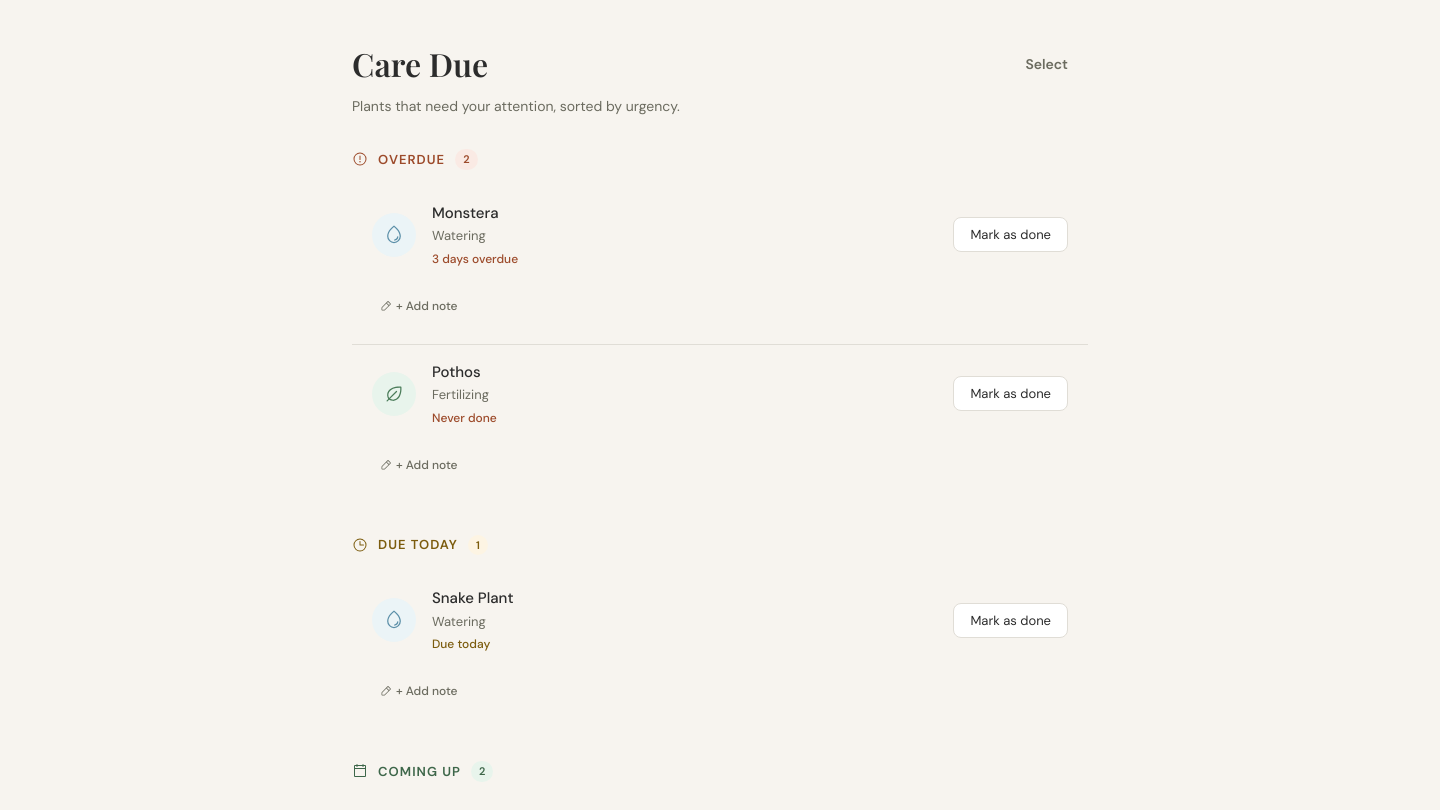
Test: CareDuePage › Batch mark-done (T-110) › selects and deselects all items via Select all checkbox
The image size is (1440, 810).
Click the button "Select" at (1047, 64), box [1005, 47, 1088, 81]
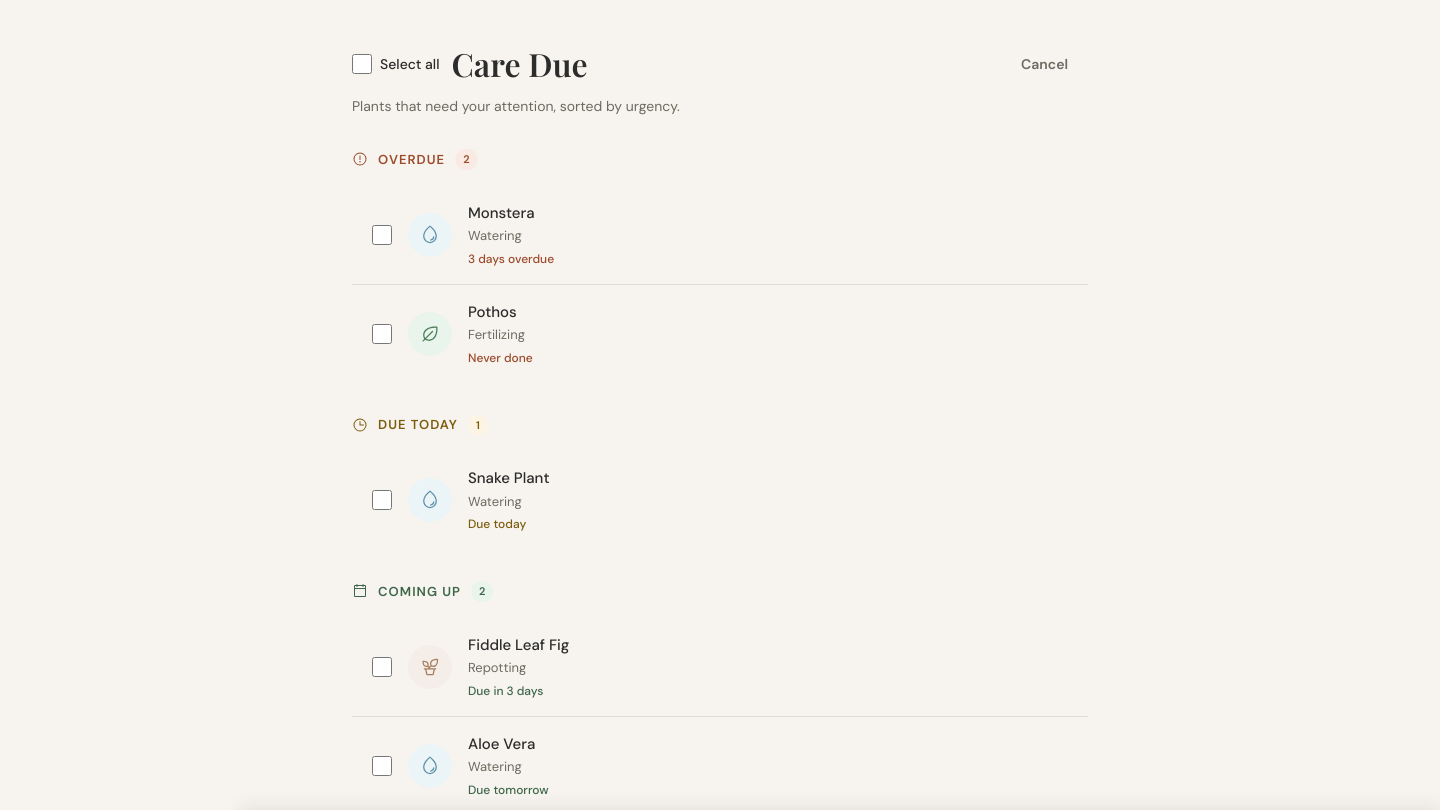
Click the checkbox named "Select all care items" at (362, 64), box [352, 54, 372, 74]
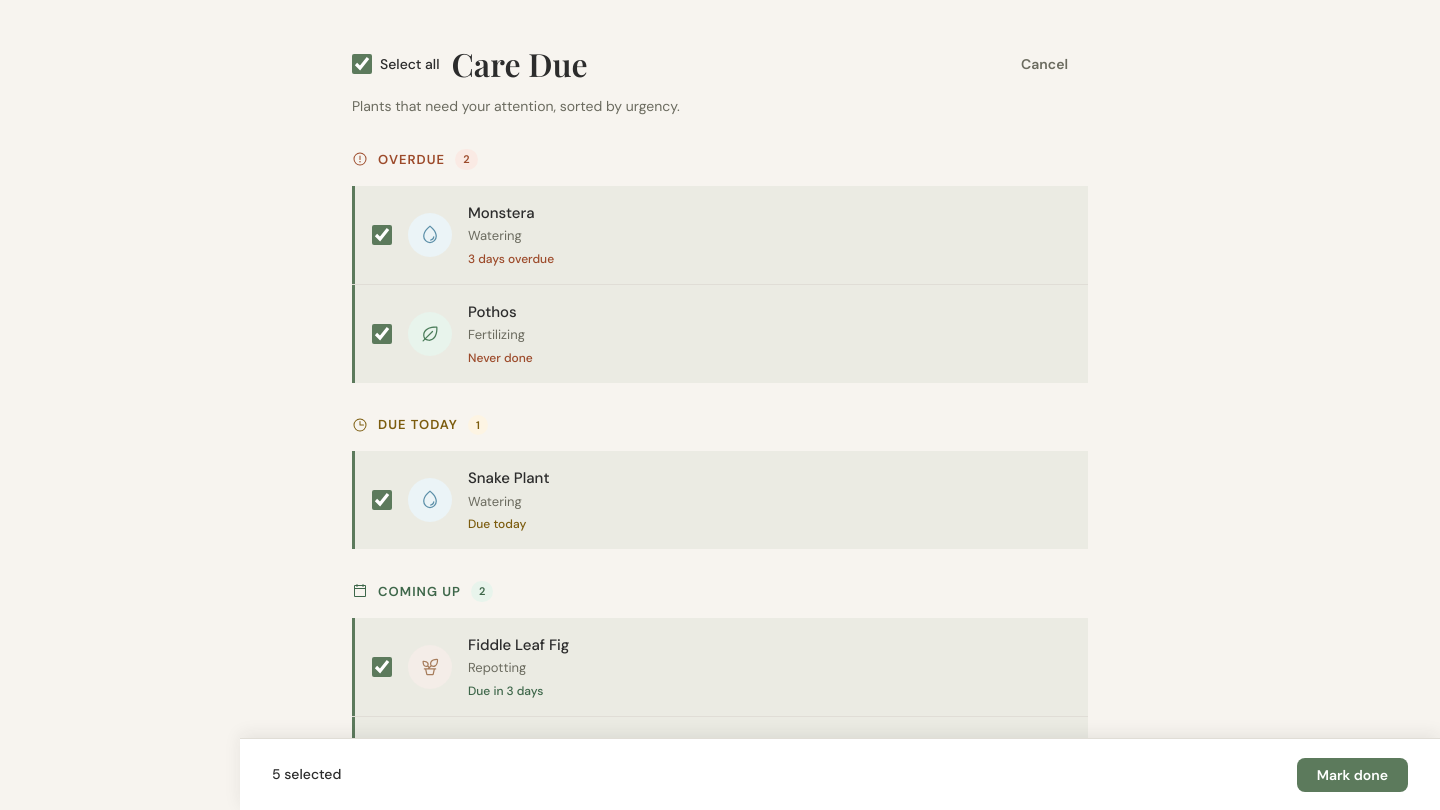
Expected: the checkbox named "Mark Monstera watering as done" is checked, [372, 224, 392, 244]
Expected: the checkbox named "Mark Pothos fertilizing as done" is checked, [372, 324, 392, 344]
Expected: the checkbox named "Mark Snake Plant watering as done" is checked, [372, 490, 392, 510]
# Deselect all
Click the checkbox labelled "Select all" at (362, 64), box [352, 54, 372, 74]
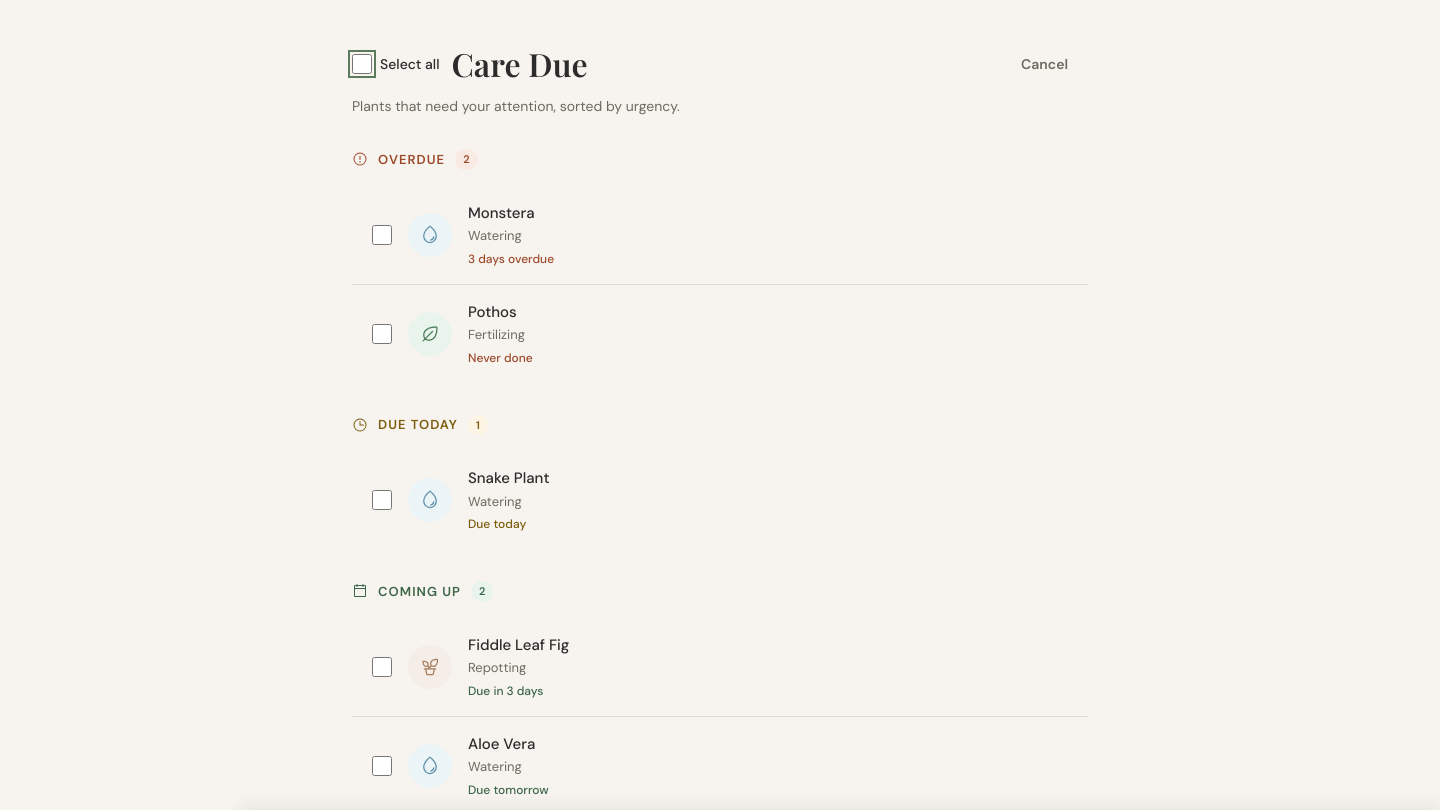
Expected: the checkbox named "Mark Monstera watering as done" is not checked, [372, 224, 392, 244]
Expected: the checkbox named "Mark Pothos fertilizing as done" is not checked, [372, 324, 392, 344]
Expected: the checkbox named "Mark Snake Plant watering as done" is not checked, [372, 490, 392, 510]
